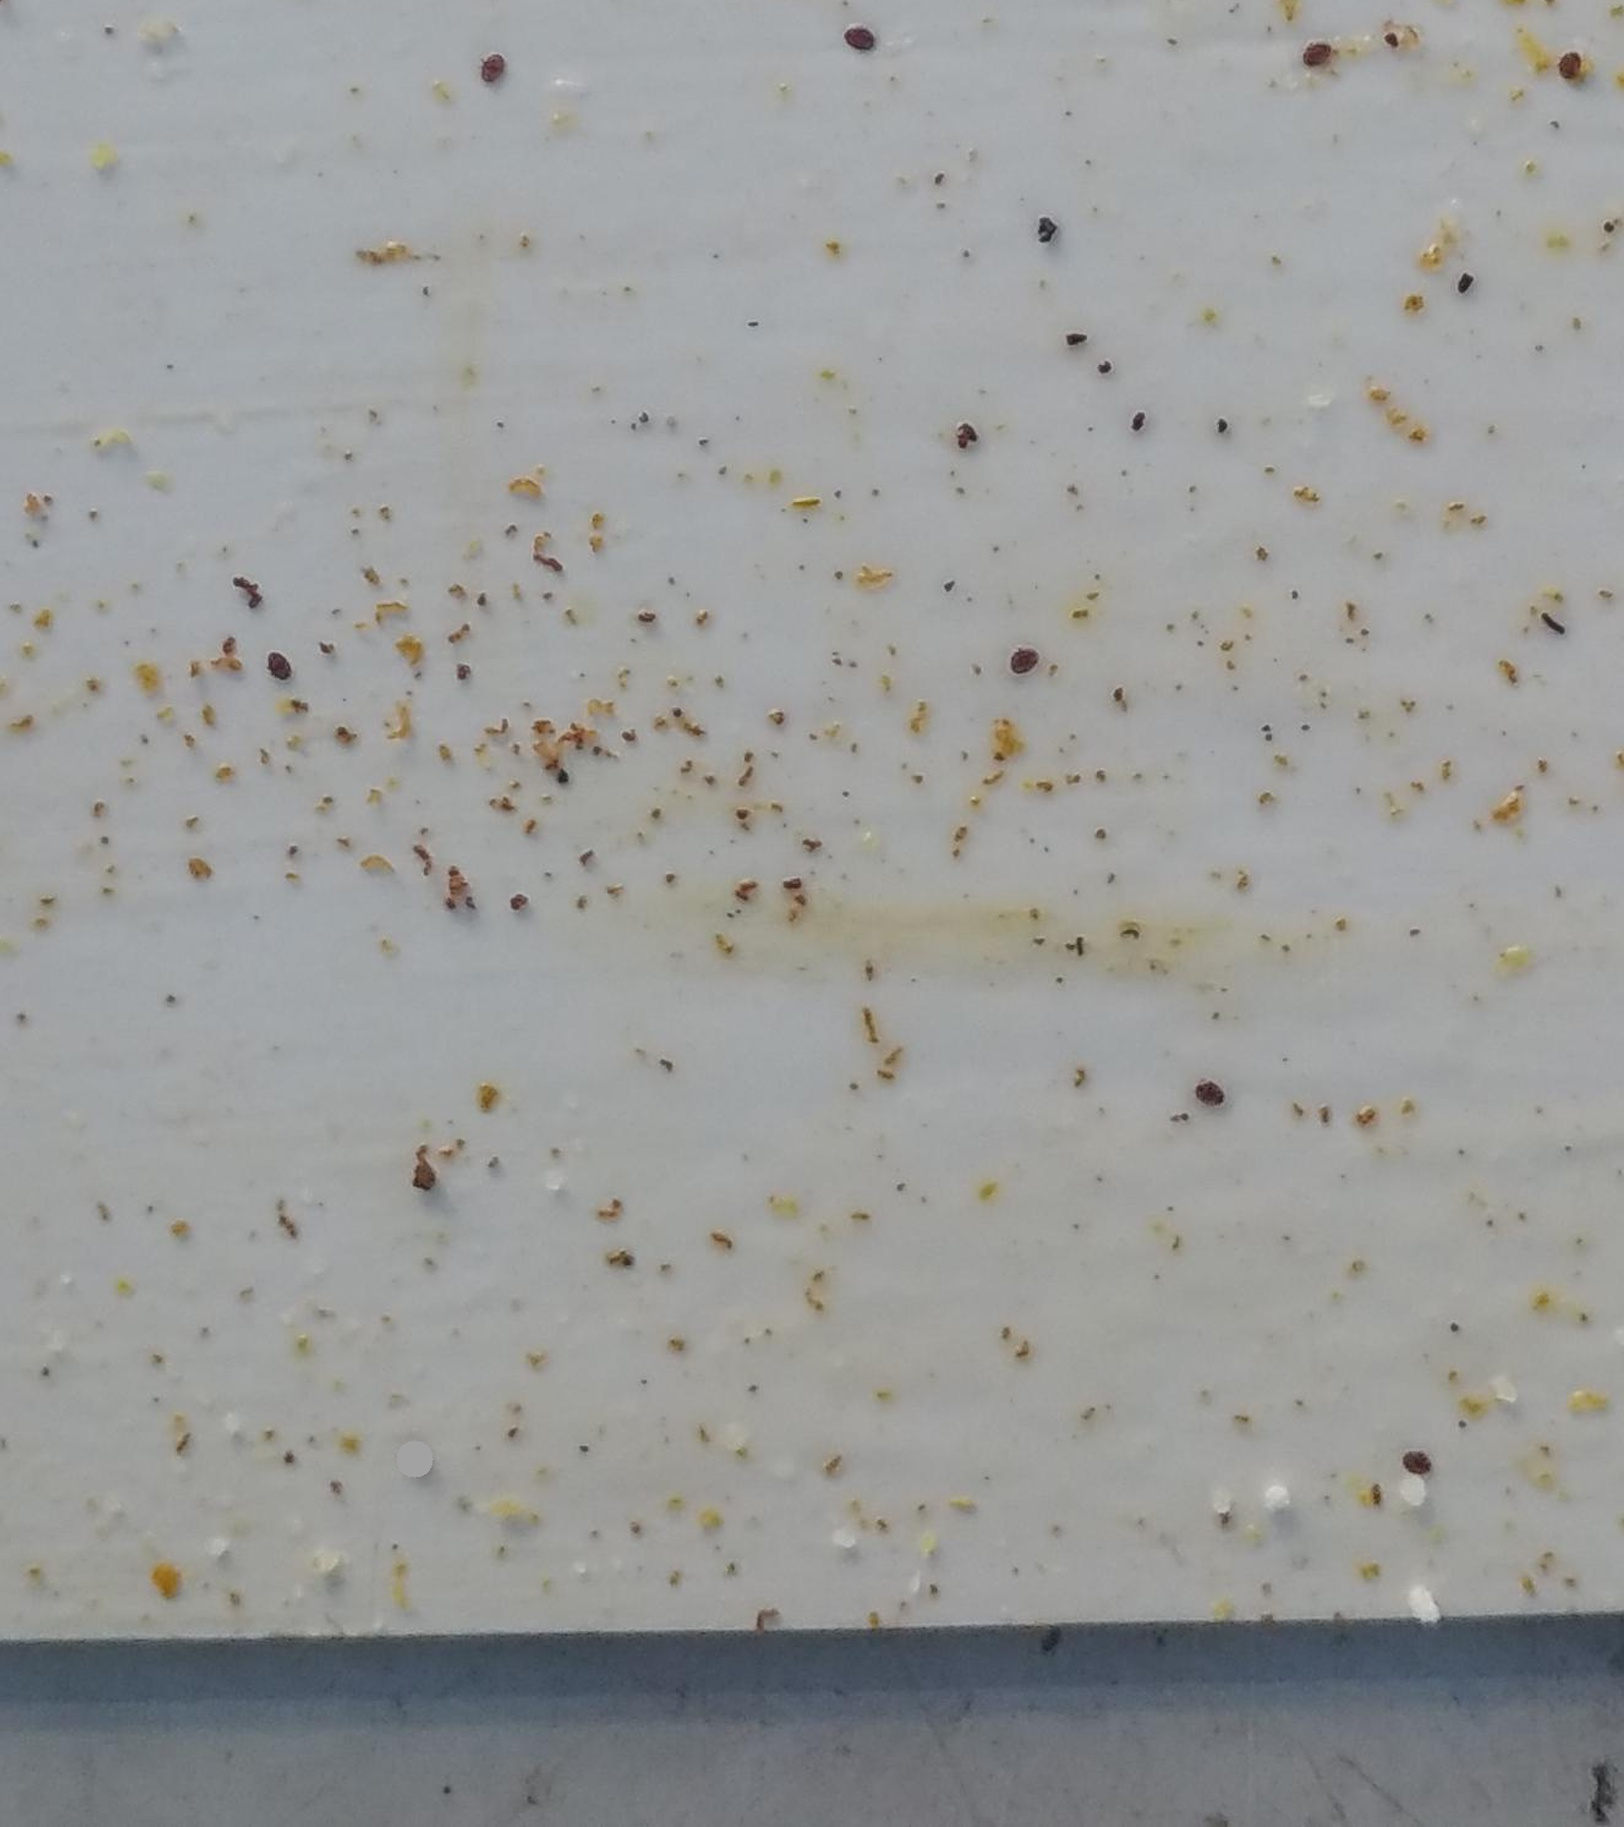Varroa: (1198, 1080, 1226, 1106), (1405, 1448, 1431, 1474), (480, 53, 506, 78), (850, 24, 873, 52), (1011, 649, 1038, 672), (1558, 53, 1582, 78), (1306, 41, 1329, 66), (273, 644, 296, 666)
